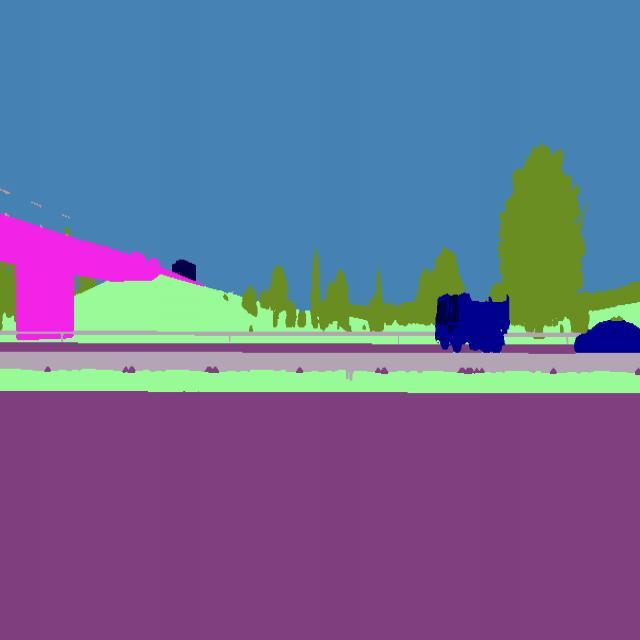safe: (430, 288, 513, 360), (571, 312, 640, 358), (167, 254, 200, 286)
